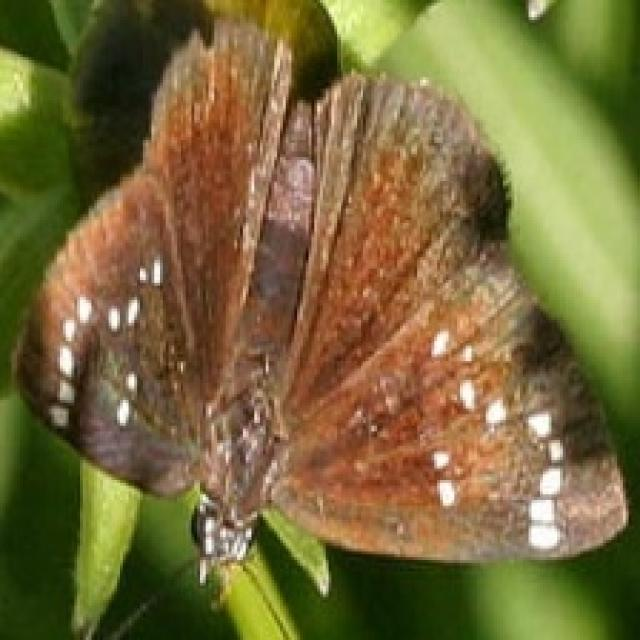butterfly: (9, 14, 632, 612)
